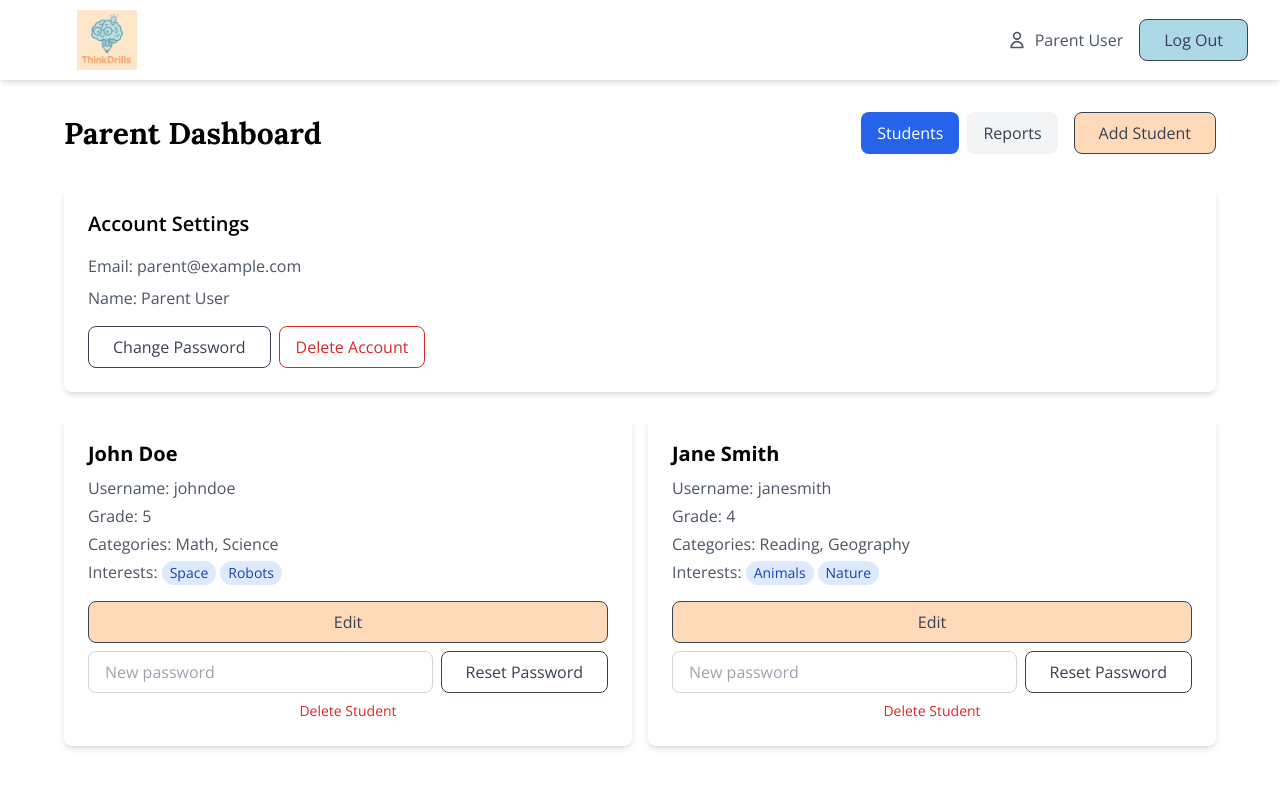
Scenario: Parent Dashboard › should handle student deletion with error
Expected: the heading "John Doe" is shown, [88,440,178,467]
Click the button "Delete Student" below "Space": (348, 711) [88,701,608,721]
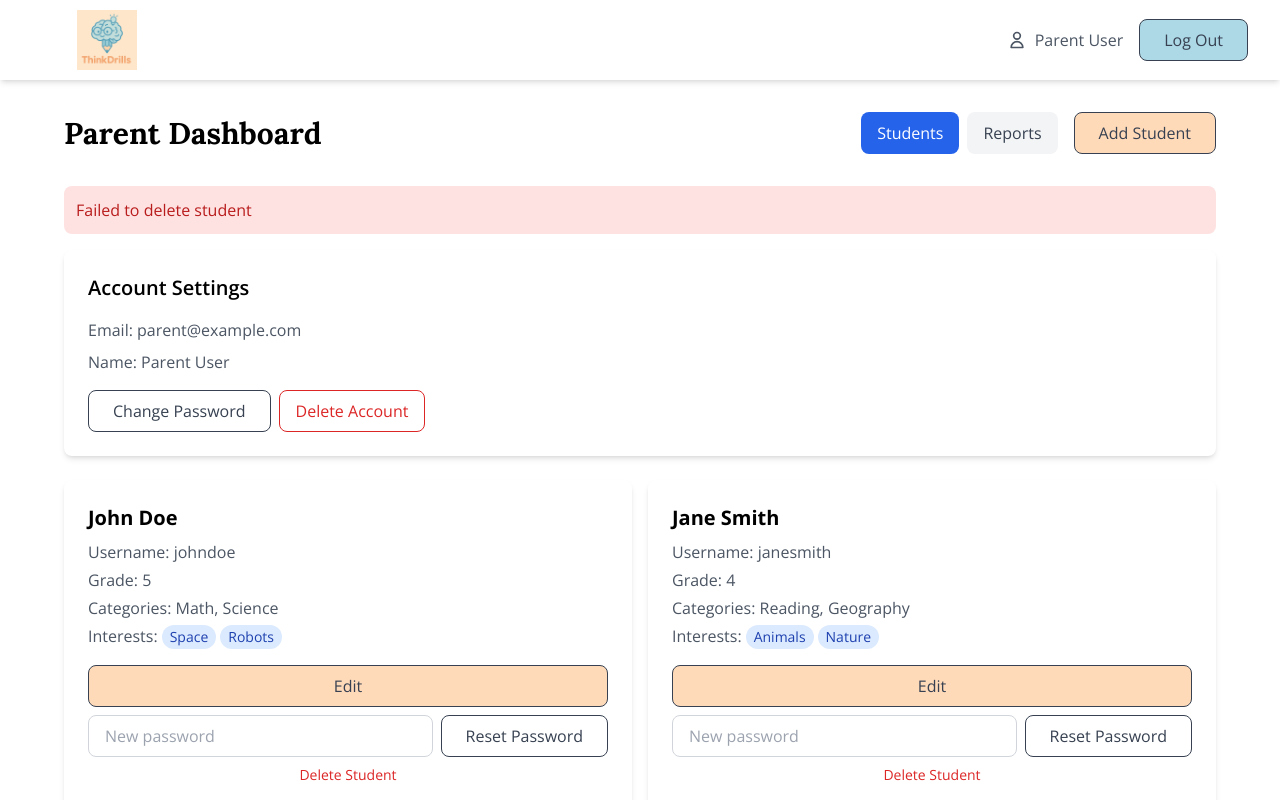
Expected: the text "Failed to delete student" is shown, [64,186,1216,234]
